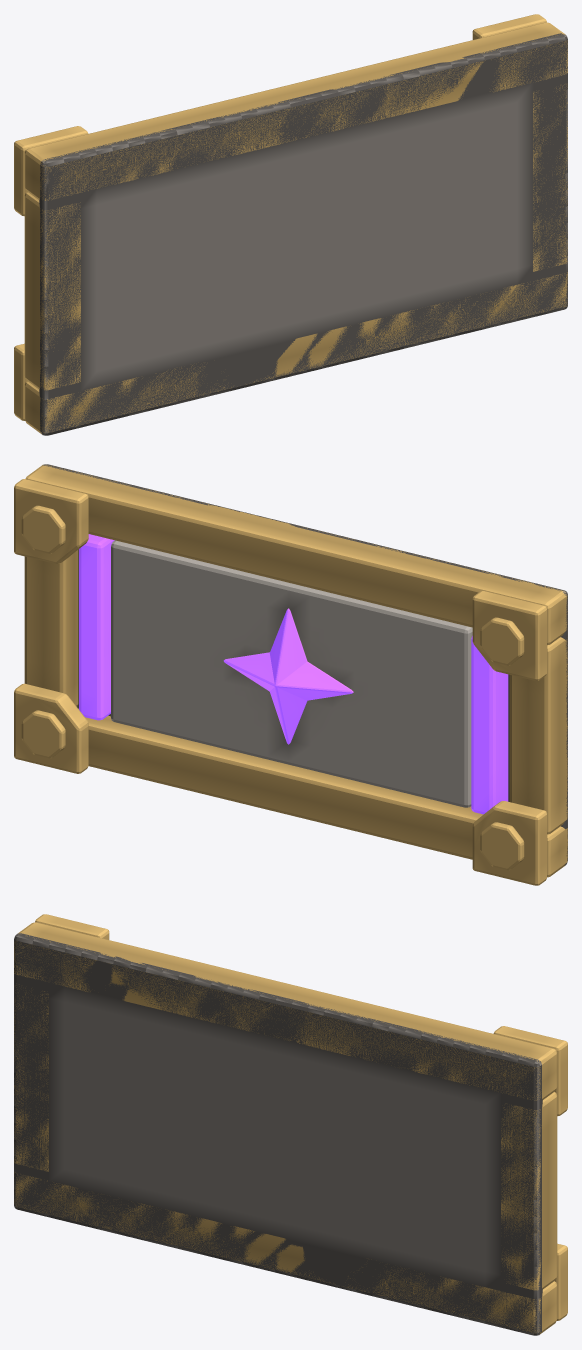
File: board_push_2.glb
3 renders of one model, top to bottom at view 1: azimuth 30°, elevation 25°; view 2: azimuth 150°, elevation 25°; view 3: azimuth 330°, elevation 25°, orthographic.
Visible parts, largest first — view 1: Back, FrameT, FrameB, FrameL, FrameR, Bolt1, Bolt3, Bolt0; view 2: Panel, FrameT, FrameB, FrameL, FrameR, Bar1, Bar0, Gem, Bolt1, Bolt2, Bolt3, Bolt0 (+5 smaller); view 3: Back, FrameT, FrameB, FrameR, FrameL, Bolt0, Bolt2, Bolt1.
Part boxes in pixels (bbox=[...]): Back: bbox=[39, 33, 567, 435]; FrameT: bbox=[24, 22, 567, 200]; FrameB: bbox=[24, 272, 567, 434]; FrameL: bbox=[24, 192, 80, 390]; FrameR: bbox=[533, 84, 567, 271]; Bolt1: bbox=[14, 126, 88, 216]; Bolt3: bbox=[14, 343, 26, 420]; Bolt0: bbox=[472, 14, 546, 39]; Panel: bbox=[111, 540, 472, 807]; FrameT: bbox=[25, 465, 567, 645]; FrameB: bbox=[78, 708, 567, 877]; FrameL: bbox=[509, 637, 567, 834]; FrameR: bbox=[24, 550, 78, 706]; Bar1: bbox=[79, 534, 114, 720]; Bar0: bbox=[471, 636, 508, 814]; Gem: bbox=[223, 608, 353, 744]; Bolt1: bbox=[472, 591, 547, 680]; Bolt2: bbox=[14, 683, 88, 773]; Bolt3: bbox=[472, 801, 547, 885]; Bolt0: bbox=[14, 479, 88, 563]; Back: bbox=[14, 933, 542, 1335]; FrameT: bbox=[14, 922, 557, 1100]; FrameB: bbox=[14, 1172, 557, 1334]; FrameR: bbox=[501, 1092, 557, 1290]; FrameL: bbox=[14, 983, 48, 1171]; Bolt0: bbox=[493, 1026, 567, 1116]; Bolt2: bbox=[555, 1243, 567, 1320]; Bolt1: bbox=[35, 914, 109, 939].
Size of the model in its own units: 1 by 0.5 by 0.12.
